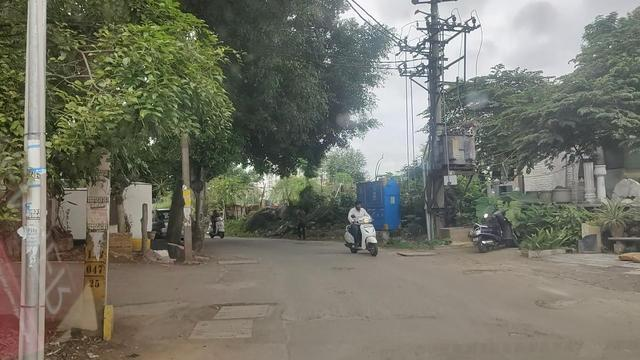LMV: (347, 203, 380, 256)
RoadDamages: (189, 295, 277, 343)
